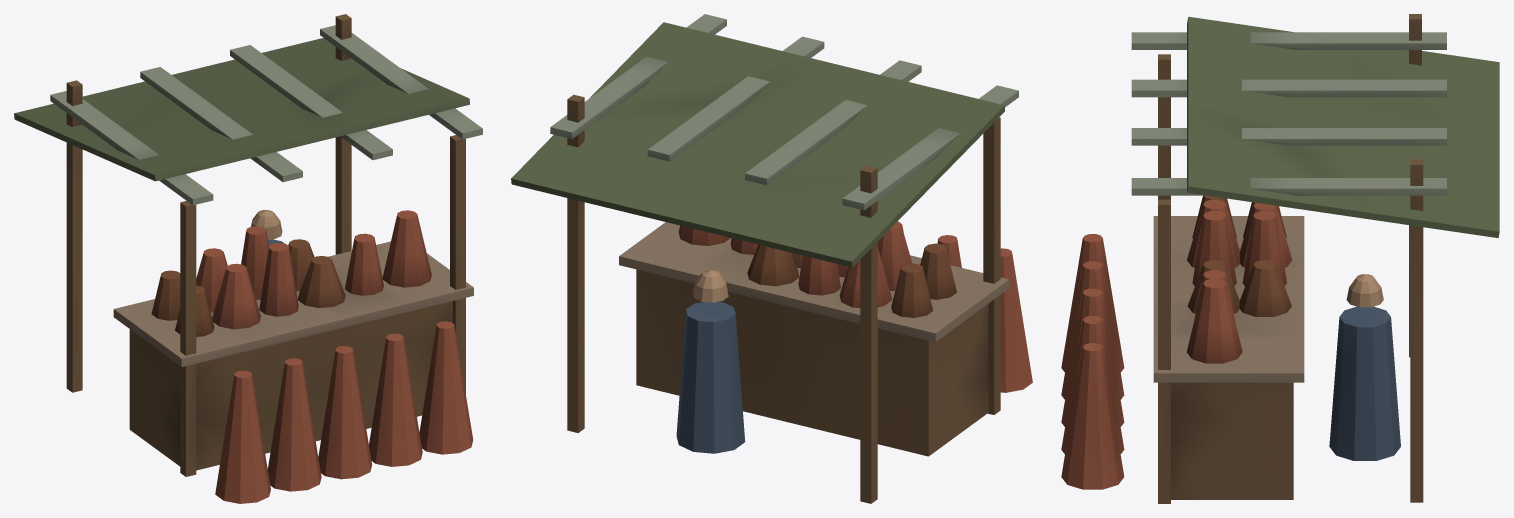
Rendered from stall-pots.glb.
The picture shows the model from 3 angles, left to right: view 1: azimuth 30°, elevation 25°; view 2: azimuth 150°, elevation 25°; view 3: azimuth 270°, elevation 25°; orthographic projection. The views are drawn at different scales.
Parts seen in each view (by area): view 1: base; view 2: base; view 3: base.
Boxes of the visible parts, <box> form: base: <box>14,14,482,503</box>; base: <box>511,14,1032,503</box>; base: <box>1061,14,1499,503</box>.
Bounding box in the file's own units: 2.8 × 2.61 × 3.06.
